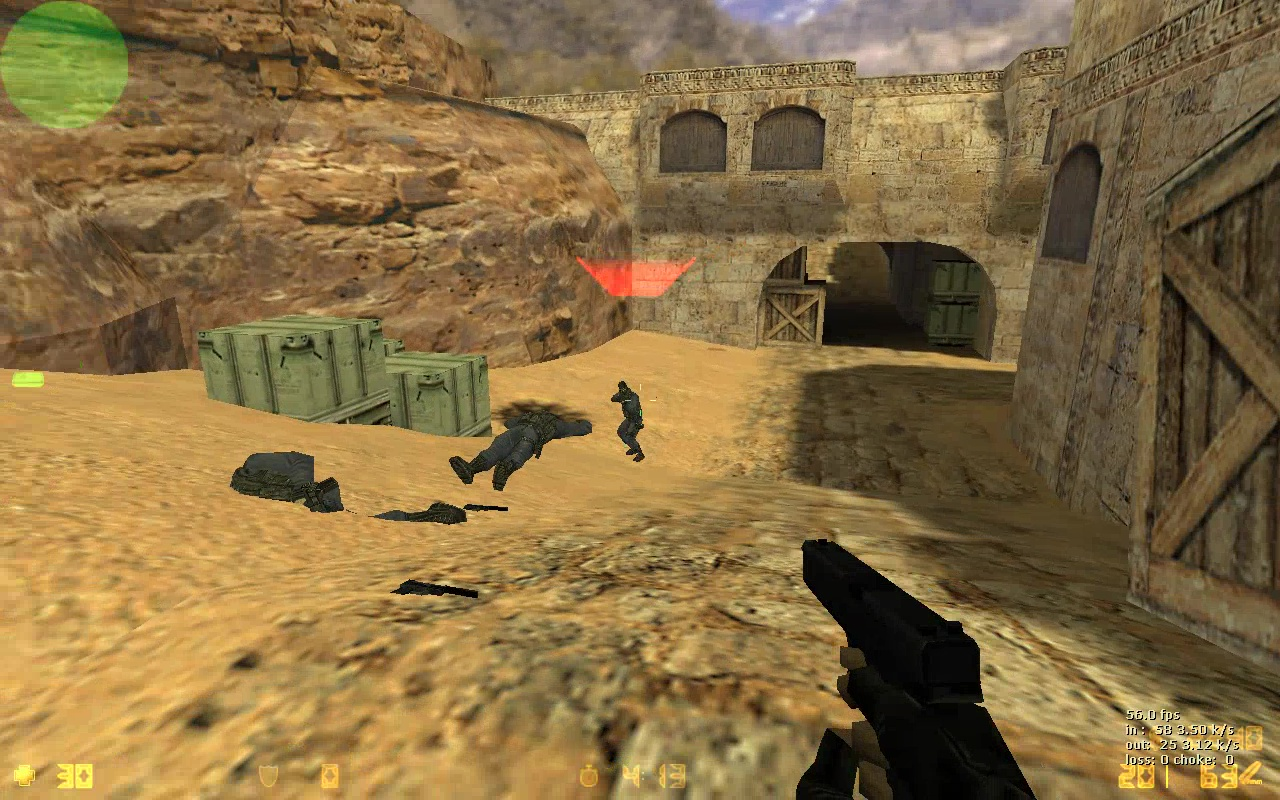ct: (608, 379, 646, 468)
dead: (439, 408, 596, 483)
